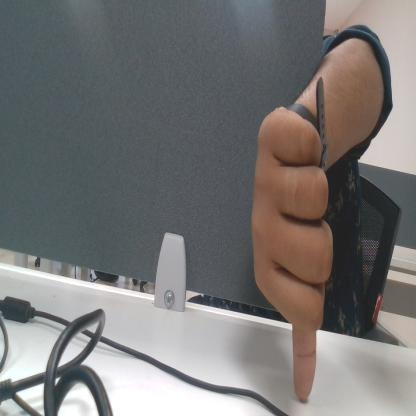Thumbs Down: (251, 109, 329, 395)
